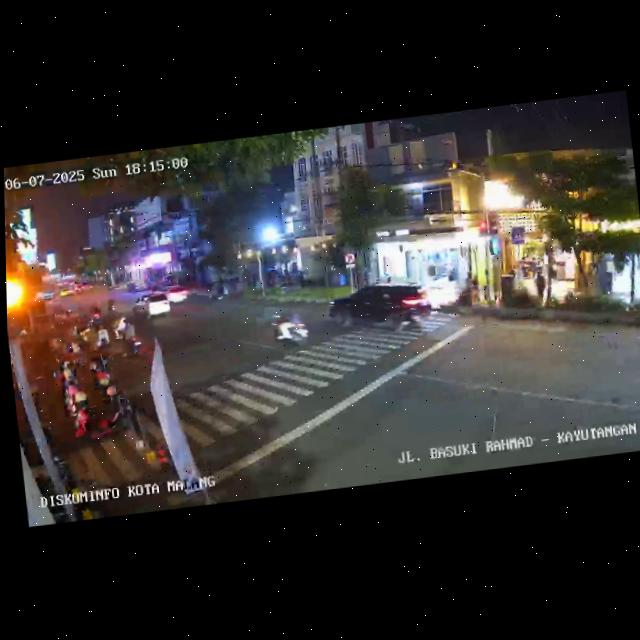car: (332, 277, 432, 338), (129, 289, 172, 323), (163, 283, 189, 304)
motorcycle: (269, 307, 312, 353), (117, 316, 146, 361), (208, 275, 230, 304), (94, 319, 111, 351)
person: (533, 268, 548, 308), (636, 266, 640, 301)
